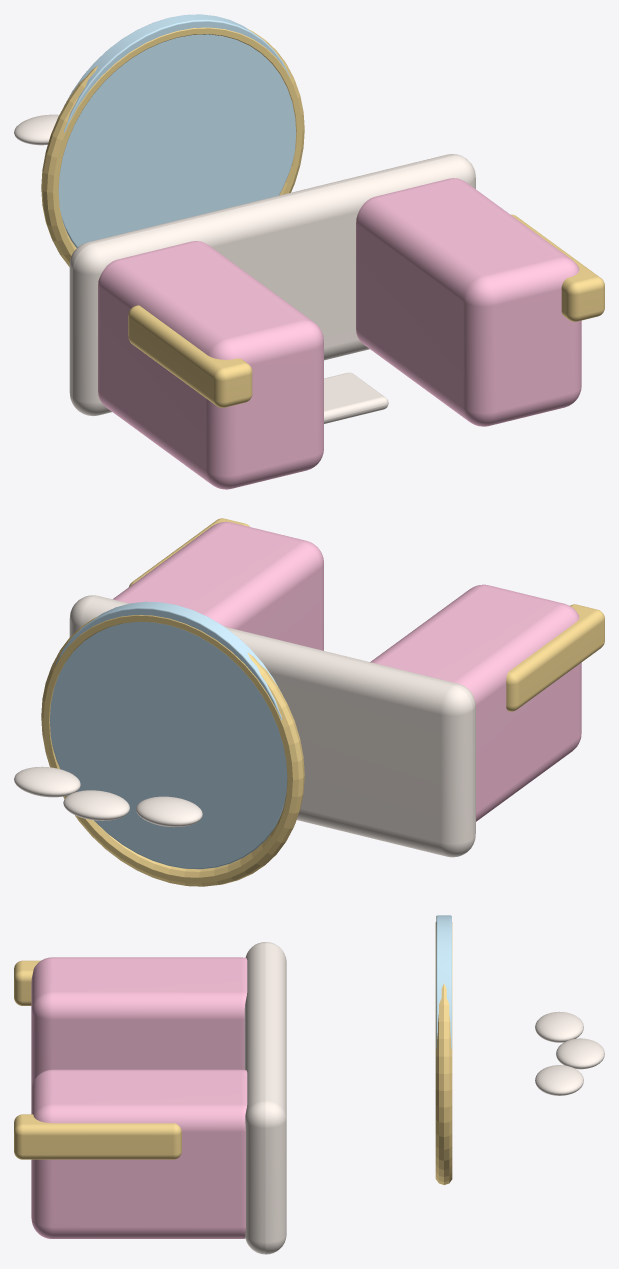
The model's file is 云朵粉色梳妆台.fbx.
The picture shows the model from 3 angles, top to bottom: view 1: azimuth 30°, elevation 25°; view 2: azimuth 150°, elevation 25°; view 3: azimuth 270°, elevation 25°; orthographic projection. The views are drawn at different scales.
Visible parts, largest first — view 1: 云朵粉色梳妆台_右柜, 云朵粉色梳妆台_圆镜, 云朵粉色梳妆台_左柜, 云朵粉色梳妆台_桌面, 云朵粉色梳妆台_镜框, 云朵粉色梳妆台_圆脚, 云朵粉色梳妆台_中抽屉, 云朵粉色梳妆台_圆脚.001, 云朵粉色梳妆台_镜顶云朵; view 2: 云朵粉色梳妆台_圆镜, 云朵粉色梳妆台_桌面, 云朵粉色梳妆台_左柜, 云朵粉色梳妆台_右柜, 云朵粉色梳妆台_镜框, 云朵粉色梳妆台_圆脚, 云朵粉色梳妆台_镜顶云朵.001, 云朵粉色梳妆台_镜顶云朵, 云朵粉色梳妆台_镜顶云朵.002; view 3: 云朵粉色梳妆台_右柜, 云朵粉色梳妆台_左柜, 云朵粉色梳妆台_桌面, 云朵粉色梳妆台_圆脚.001, 云朵粉色梳妆台_镜框, 云朵粉色梳妆台_圆镜, 云朵粉色梳妆台_镜顶云朵.002, 云朵粉色梳妆台_镜顶云朵.001, 云朵粉色梳妆台_镜顶云朵, 云朵粉色梳妆台_圆脚.
Part boxes in pixels (box(x1,y1,x2,y2)): 云朵粉色梳妆台_右柜: box(356, 178, 581, 426); 云朵粉色梳妆台_圆镜: box(58, 14, 296, 247); 云朵粉色梳妆台_左柜: box(98, 241, 323, 489); 云朵粉色梳妆台_桌面: box(69, 154, 475, 416); 云朵粉色梳妆台_镜框: box(41, 27, 304, 266); 云朵粉色梳妆台_圆脚: box(128, 305, 252, 407); 云朵粉色梳妆台_中抽屉: box(324, 372, 388, 423); 云朵粉色梳妆台_圆脚.001: box(511, 214, 604, 321); 云朵粉色梳妆台_镜顶云朵: box(14, 114, 58, 145); 云朵粉色梳妆台_圆镜: box(49, 601, 287, 869); 云朵粉色梳妆台_桌面: box(69, 595, 475, 857); 云朵粉色梳妆台_左柜: box(370, 584, 581, 821); 云朵粉色梳妆台_右柜: box(113, 521, 323, 650); 云朵粉色梳妆台_镜框: box(41, 615, 304, 886); 云朵粉色梳妆台_圆脚: box(506, 604, 604, 711); 云朵粉色梳妆台_镜顶云朵.001: box(63, 790, 129, 820); 云朵粉色梳妆台_镜顶云朵: box(136, 796, 202, 827); 云朵粉色梳妆台_镜顶云朵.002: box(14, 766, 80, 797); 云朵粉色梳妆台_右柜: box(31, 1069, 247, 1238); 云朵粉色梳妆台_左柜: box(31, 957, 247, 1089); 云朵粉色梳妆台_桌面: box(244, 942, 286, 1254); 云朵粉色梳妆台_圆脚.001: box(14, 1114, 181, 1159); 云朵粉色梳妆台_镜框: box(435, 922, 452, 1184); 云朵粉色梳妆台_圆镜: box(436, 915, 451, 1048); 云朵粉色梳妆台_镜顶云朵.002: box(535, 1065, 583, 1095); 云朵粉色梳妆台_镜顶云朵.001: box(556, 1038, 604, 1069); 云朵粉色梳妆台_镜顶云朵: box(535, 1011, 583, 1042); 云朵粉色梳妆台_圆脚: box(14, 960, 40, 1005).
Size of the model in its own units: 118 by 80.75 by 169.
